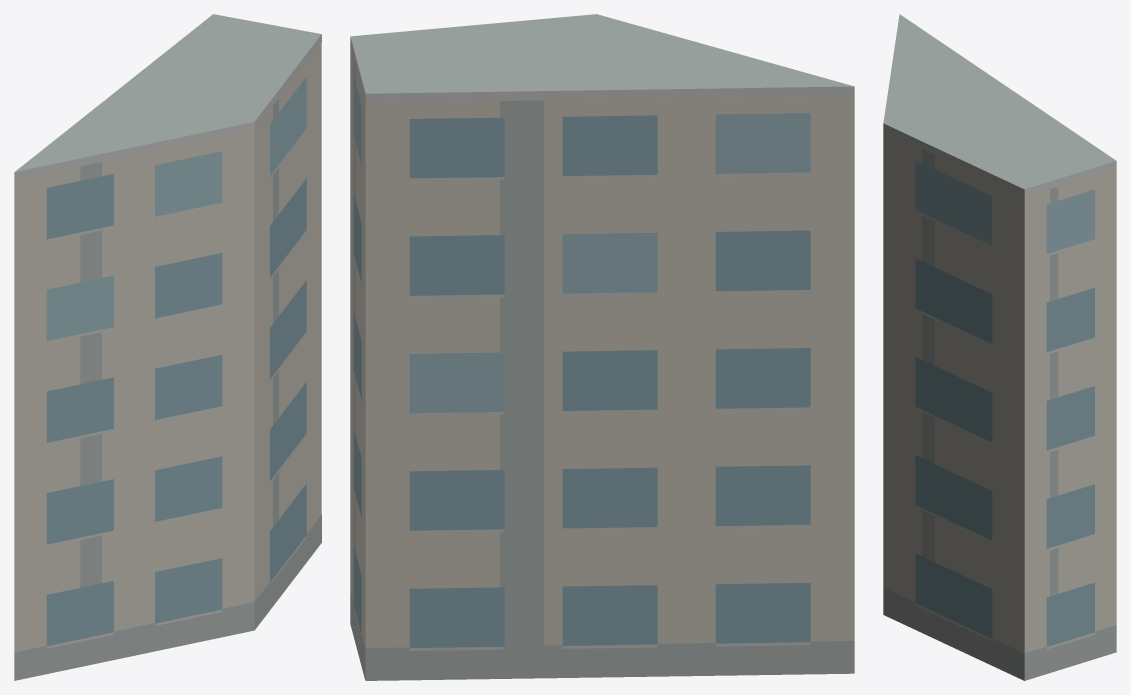
Rendered from survey-upis-32507993.glb.
The picture shows the model from 3 angles, left to right: view 1: azimuth 30°, elevation 25°; view 2: azimuth 150°, elevation 25°; view 3: azimuth 270°, elevation 25°; orthographic projection. The views are drawn at different scales.
Visible parts, largest first — view 1: survey-upis-32507993.tmp; view 2: survey-upis-32507993.tmp; view 3: survey-upis-32507993.tmp.
Part boxes in pixels (x1,y1,x2,y2): survey-upis-32507993.tmp: [14, 14, 321, 680]; survey-upis-32507993.tmp: [350, 14, 854, 680]; survey-upis-32507993.tmp: [883, 14, 1116, 680].
Bounding box in the file's own units: 11.68 × 15.25 × 6.57.
